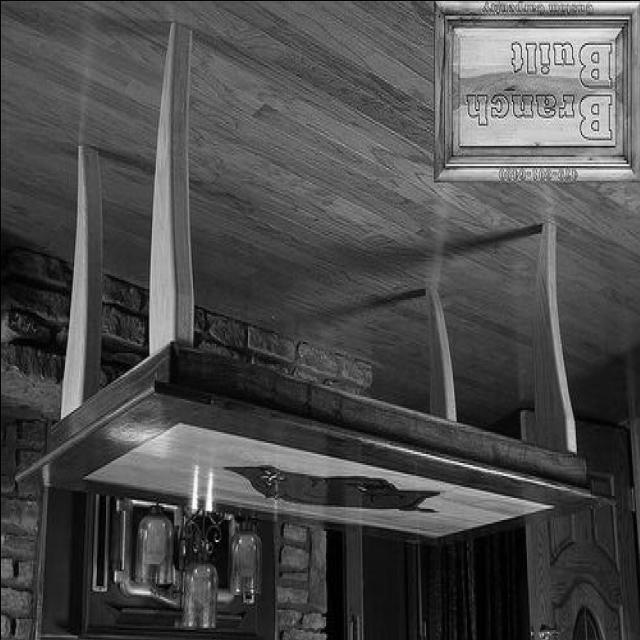table: (8, 21, 595, 547)
